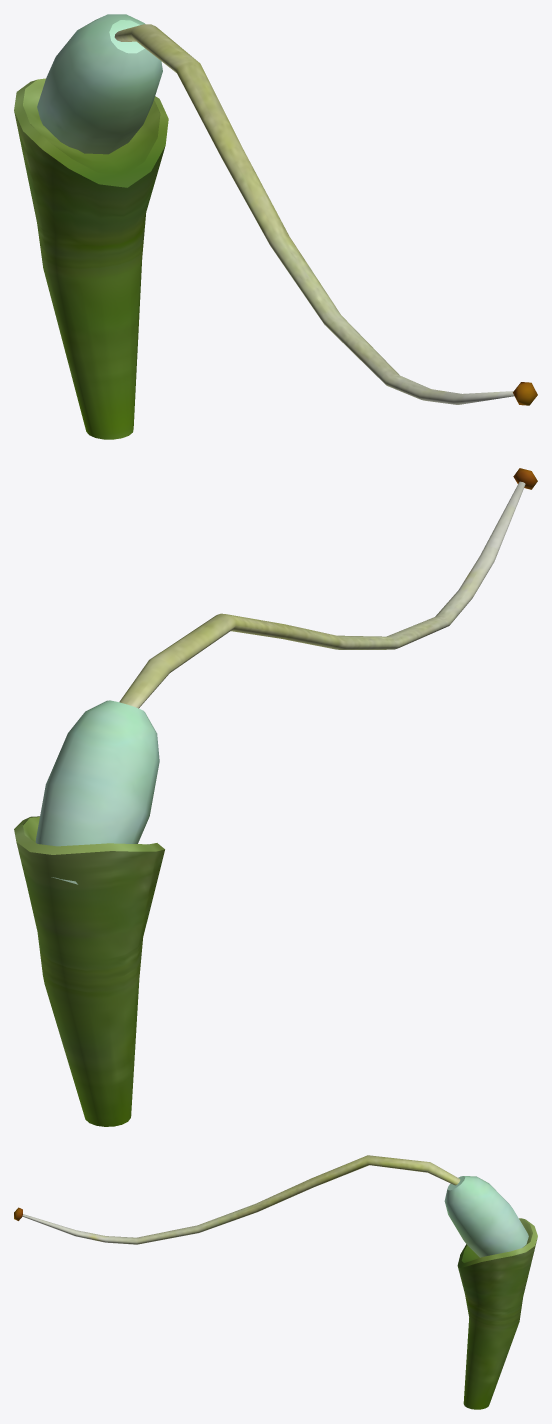
File: Dayflower_Base_SexualOrgans.glb
3 views of the same model, one above another, from view 1: azimuth 30°, elevation 25°; view 2: azimuth 150°, elevation 25°; view 3: azimuth 270°, elevation 25° (orthographic). The views are drawn at different scales.
Parts seen in each view (by area): view 1: DayflowerStem, DayflowerOvary, DayflowerPistil1; view 2: DayflowerStem, DayflowerOvary, DayflowerPistil1; view 3: DayflowerStem, DayflowerOvary, DayflowerPistil1.
Boxes of the visible parts, box(x1,y1,x2,y2) form: DayflowerStem: box(14, 78, 168, 439); DayflowerOvary: box(37, 14, 162, 154); DayflowerPistil1: box(114, 24, 514, 404); DayflowerStem: box(14, 816, 164, 1126); DayflowerOvary: box(35, 700, 159, 884); DayflowerPistil1: box(119, 481, 525, 708); DayflowerStem: box(457, 1218, 537, 1409); DayflowerOvary: box(444, 1176, 534, 1257); DayflowerPistil1: box(22, 1155, 460, 1244).
Size of the model in its own units: 0.2478 by 0.7744 by 1.52.
Materials: 4 (4 with a texture image).
